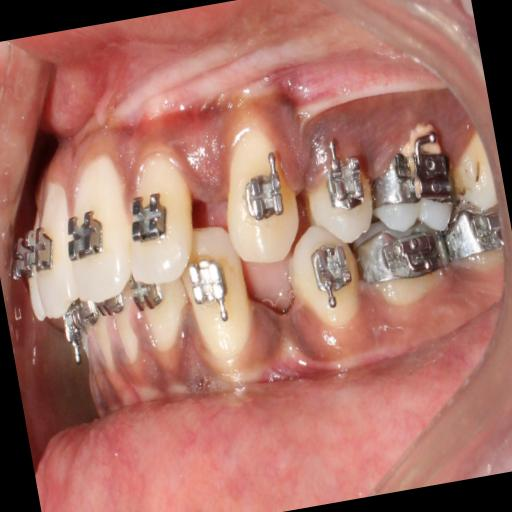correct_brace: (285, 221, 366, 338), (300, 148, 376, 248), (232, 146, 291, 230), (123, 176, 178, 250), (306, 238, 358, 310), (60, 197, 112, 266)
incorrect_brace: (112, 152, 206, 284), (321, 155, 369, 216)
